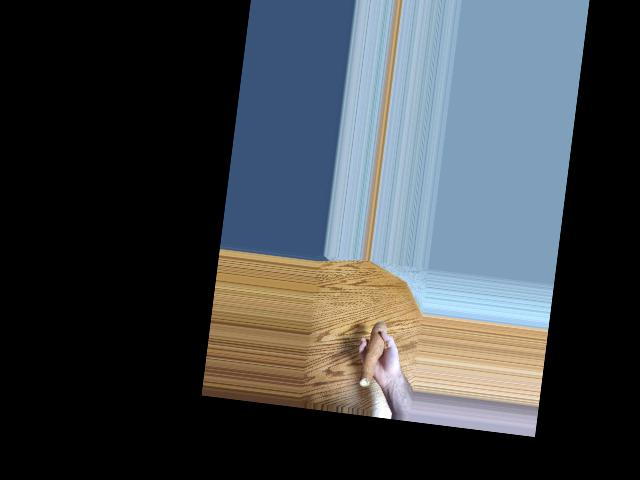sweet_potato: (361, 321, 388, 387)
